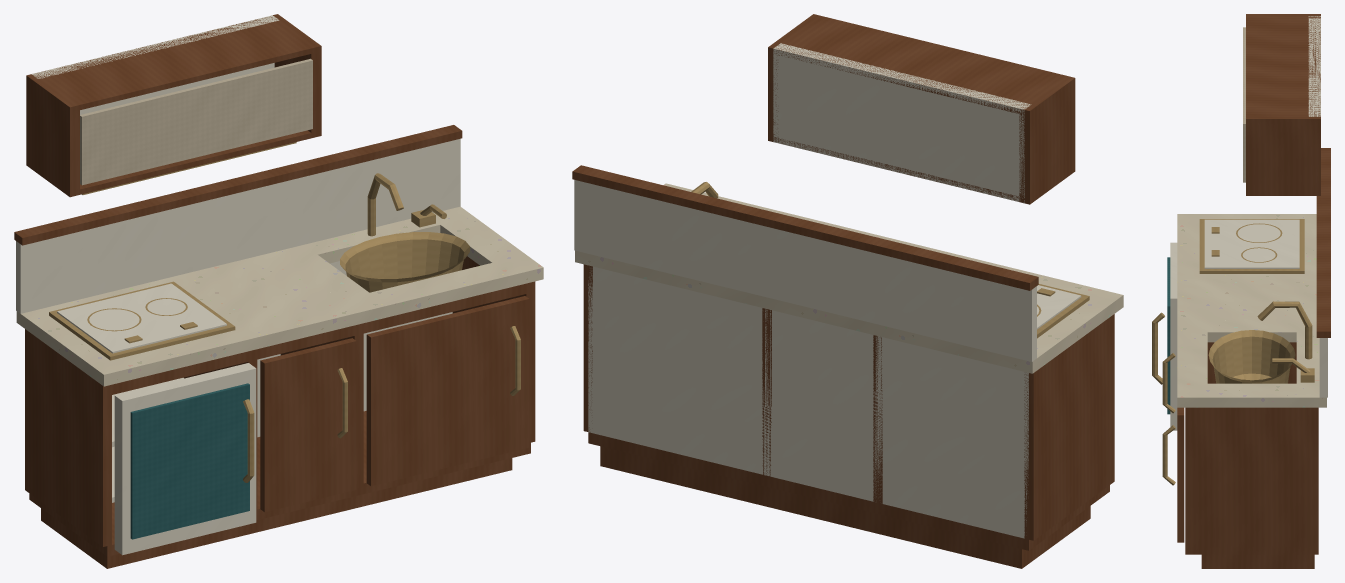
File: suite_kitchenette.glb
3 views of the same model, side by side, from view 1: azimuth 30°, elevation 25°; view 2: azimuth 150°, elevation 25°; view 3: azimuth 270°, elevation 25° (orthographic). The views are drawn at different scales.
Visible parts, largest first — view 1: KIT_Splashback, KIT_StorageDoor_1, KIT_Worktop_left, KIT_UpperPantryFront, KIT_FridgeTimberInset, KIT_StorageDoor_0, KIT_CarcassSide_0, KIT_UpperPantryShelf_2.055, KIT_FridgeDoor, KIT_SplashCap, KIT_HobSurface, KIT_RecessedToePlinth (+16 smaller); view 2: KIT_BackPanel, KIT_Splashback, KIT_UpperPantryBack, KIT_CarcassSide_0, KIT_UpperPantryShelf_2.055, KIT_RecessedToePlinth, KIT_SplashCap, KIT_Worktop_left, KIT_UpperPantrySide_-1.02, KIT_BaseDeck, KIT_Worktop_back, KIT_CarcassSide_2 (+5 smaller); view 3: KIT_CarcassSide_3, KIT_Worktop_left, KIT_UpperPantryShelf_2.055, KIT_UpperPantrySide_0.16, KIT_HobSurface, KIT_OpenSinkBowl, KIT_Worktop_right, KIT_SplashCap, KIT_RecessedToePlinth, KIT_Worktop_front, KIT_FridgeDoor, KIT_UpperPantryBack (+13 smaller).
Boxes of the visible parts, <box> form: KIT_Splashback: <box>16,138,460,313</box>; KIT_StorageDoor_1: <box>366,296,529,486</box>; KIT_Worktop_left: <box>16,245,387,386</box>; KIT_UpperPantryFront: <box>80,58,312,185</box>; KIT_FridgeTimberInset: <box>130,383,249,539</box>; KIT_StorageDoor_0: <box>260,338,356,512</box>; KIT_CarcassSide_0: <box>25,329,111,546</box>; KIT_UpperPantryShelf_2.055: <box>33,17,315,111</box>; KIT_FridgeDoor: <box>114,363,256,555</box>; KIT_SplashCap: <box>14,125,462,245</box>; KIT_HobSurface: <box>57,283,226,353</box>; KIT_RecessedToePlinth: <box>41,458,512,568</box>; KIT_BackPanel: <box>588,266,1028,538</box>; KIT_Splashback: <box>574,180,1036,361</box>; KIT_UpperPantryBack: <box>773,43,1031,203</box>; KIT_CarcassSide_0: <box>1024,314,1114,540</box>; KIT_UpperPantryShelf_2.055: <box>774,15,1068,114</box>; KIT_RecessedToePlinth: <box>600,446,1090,568</box>; KIT_SplashCap: <box>572,165,1038,290</box>; KIT_Worktop_left: <box>737,223,1123,373</box>; KIT_UpperPantrySide_-1.02: <box>1019,75,1075,204</box>; KIT_BaseDeck: <box>588,432,1109,550</box>; KIT_Worktop_back: <box>610,259,737,301</box>; KIT_CarcassSide_2: <box>762,308,771,476</box>; KIT_CarcassSide_3: <box>1185,407,1318,547</box>; KIT_Worktop_left: <box>1177,214,1316,342</box>; KIT_UpperPantryShelf_2.055: <box>1246,18,1320,116</box>; KIT_UpperPantrySide_0.16: <box>1246,114,1320,195</box>; KIT_HobSurface: <box>1204,219,1299,268</box>; KIT_OpenSinkBowl: <box>1208,330,1295,383</box>; KIT_Worktop_right: <box>1177,383,1326,407</box>; KIT_SplashCap: <box>1316,148,1330,337</box>; KIT_RecessedToePlinth: <box>1201,554,1314,568</box>; KIT_Worktop_front: <box>1177,332,1207,383</box>; KIT_FridgeDoor: <box>1170,242,1177,430</box>; KIT_UpperPantryBack: <box>1308,16,1320,116</box>.
Bounding box in the file's own units: 2.15 × 2.08 × 0.8849.
Materials: 7 (6 with a texture image).
